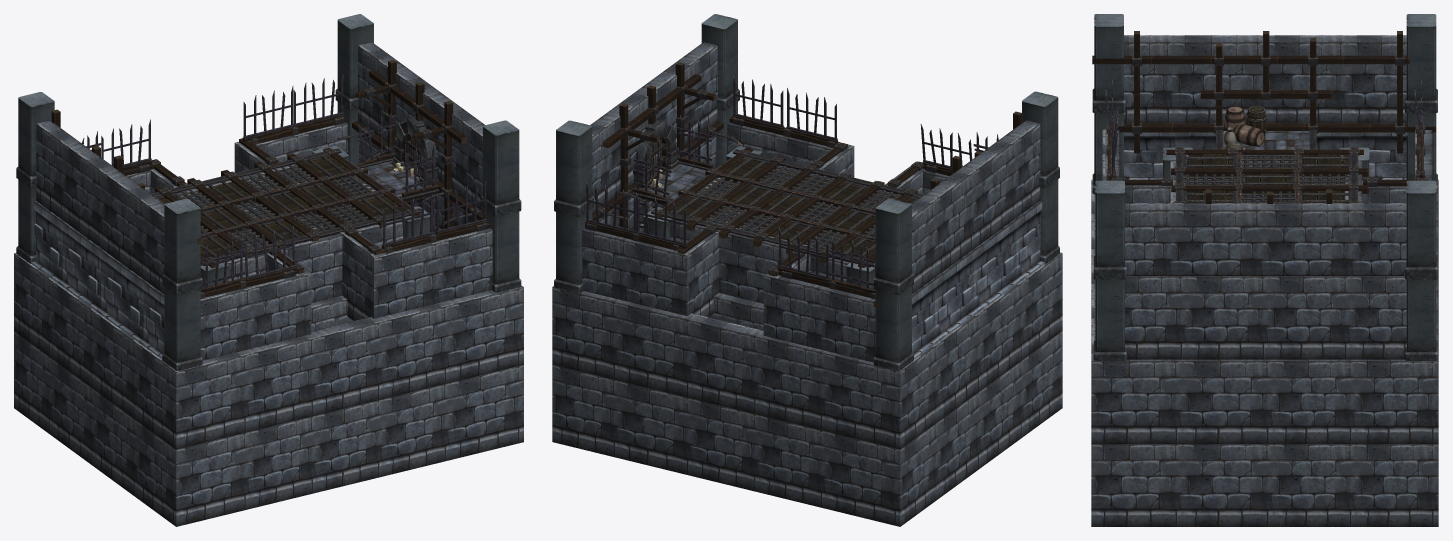
File: cell2UD.fbx
The picture shows the model from 3 angles, left to right: view 1: azimuth 30°, elevation 25°; view 2: azimuth 150°, elevation 25°; view 3: azimuth 270°, elevation 25°; orthographic projection. The views are drawn at different scales.
Parts seen in each view (by area): view 1: Cell2UD; view 2: Cell2UD; view 3: Cell2UD.
Part boxes in pixels (bbox=[...]): Cell2UD: bbox=[14, 14, 523, 526]; Cell2UD: bbox=[552, 14, 1062, 526]; Cell2UD: bbox=[1091, 14, 1438, 526].
Bounding box in the file's own units: 20.84 × 17.81 × 16.85.
